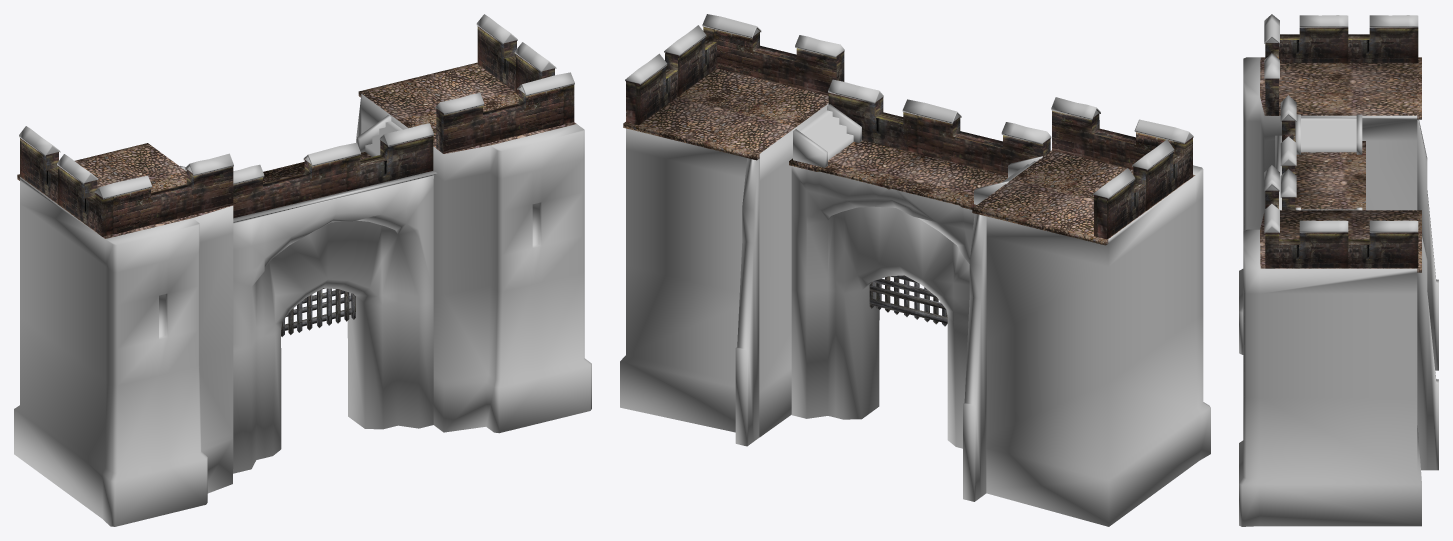
File: entrance_new.fbx
3 views of the same model, side by side, from view 1: azimuth 30°, elevation 25°; view 2: azimuth 150°, elevation 25°; view 3: azimuth 270°, elevation 25° (orthographic). The views are drawn at different scales.
Parts seen in each view (by area): view 1: EntTurretA, EntTurretB, entrance, EntTurretA_battlements, EntTurretB_battlements, EntranceC_battlements, EntranceTrim, steps; view 2: EntTurretA, EntTurretB, entrance, EntTurretB_battlements, EntTurretA_battlements, EntranceC_battlements, steps; view 3: EntTurretB, EntTurretA, EntTurretB_battlements, EntTurretA_battlements, entrance, steps, EntranceC_battlements, EntranceTrim.
Part boxes in pixels (<box>): EntTurretA: <box>14,143,233,526</box>; EntTurretB: <box>356,62,591,433</box>; entrance: <box>233,152,433,473</box>; EntTurretA_battlements: <box>19,126,233,236</box>; EntTurretB_battlements: <box>435,14,574,153</box>; EntranceC_battlements: <box>233,123,433,218</box>; EntranceTrim: <box>233,170,437,223</box>; steps: <box>180,115,402,170</box>; EntTurretA: <box>963,150,1210,526</box>; EntTurretB: <box>620,68,828,446</box>; entrance: <box>789,140,1007,448</box>; EntTurretB_battlements: <box>625,14,844,124</box>; EntTurretA_battlements: <box>1051,97,1193,239</box>; EntranceC_battlements: <box>828,79,1051,175</box>; steps: <box>793,104,1042,204</box>; EntTurretB: <box>1239,210,1438,526</box>; EntTurretA: <box>1239,57,1438,370</box>; EntTurretB_battlements: <box>1264,165,1418,268</box>; EntTurretA_battlements: <box>1264,14,1418,115</box>; entrance: <box>1295,141,1365,210</box>; steps: <box>1295,114,1362,210</box>; EntranceC_battlements: <box>1280,95,1296,210</box>; EntranceTrim: <box>1275,135,1281,210</box>.
Bounding box in the file's own units: 616 × 401 × 241.
